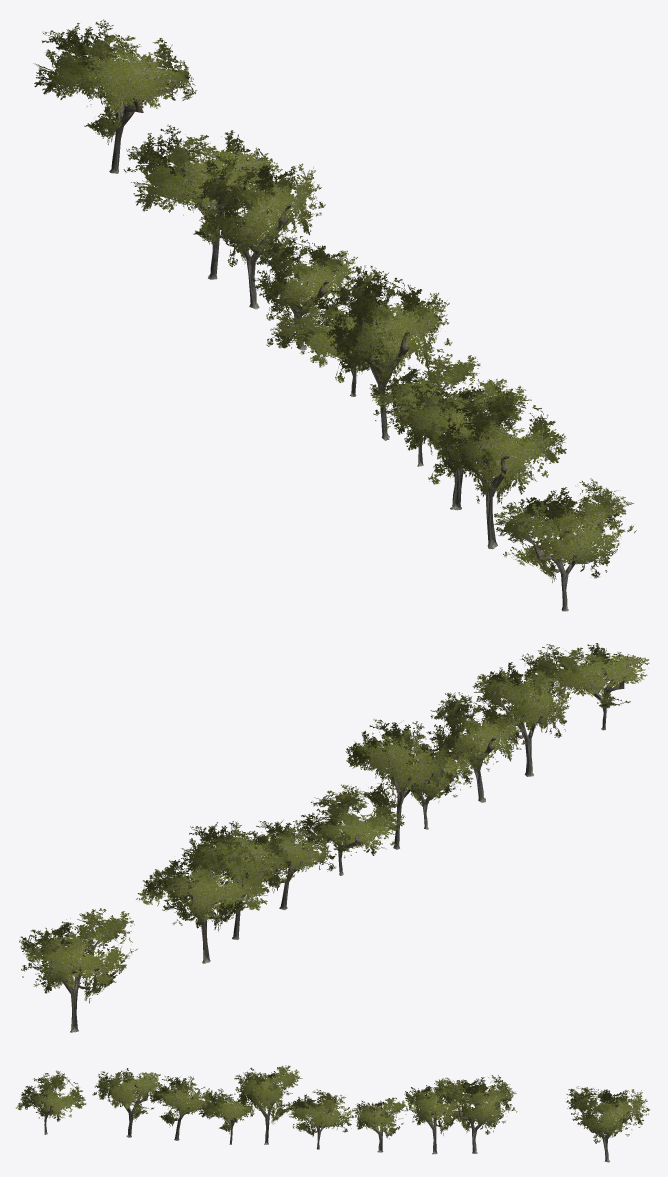
3 views of the same model, one above another, from view 1: azimuth 30°, elevation 25°; view 2: azimuth 150°, elevation 25°; view 3: azimuth 270°, elevation 25° (orthographic). The views are drawn at different scales.
Visible parts, largest first — view 1: Island tree branch clusters, Island tree bark; view 2: Island tree branch clusters, Island tree bark; view 3: Island tree branch clusters, Island tree bark.
Boxes of the visible parts, x1=… form: Island tree branch clusters: x1=33, y1=19, x2=636, y2=582; Island tree bark: x1=78, y1=44, x2=609, y2=611; Island tree branch clusters: x1=19, y1=643, x2=649, y2=1003; Island tree bark: x1=46, y1=662, x2=626, y2=1032; Island tree branch clusters: x1=16, y1=1065, x2=650, y2=1143; Island tree bark: x1=25, y1=1082, x2=629, y2=1162.
Bounding box in the file's own units: 27.34 × 16.32 × 120.
Materials: 2 (2 with a texture image).
